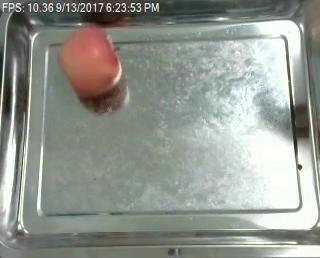apple: (59, 27, 122, 99)
